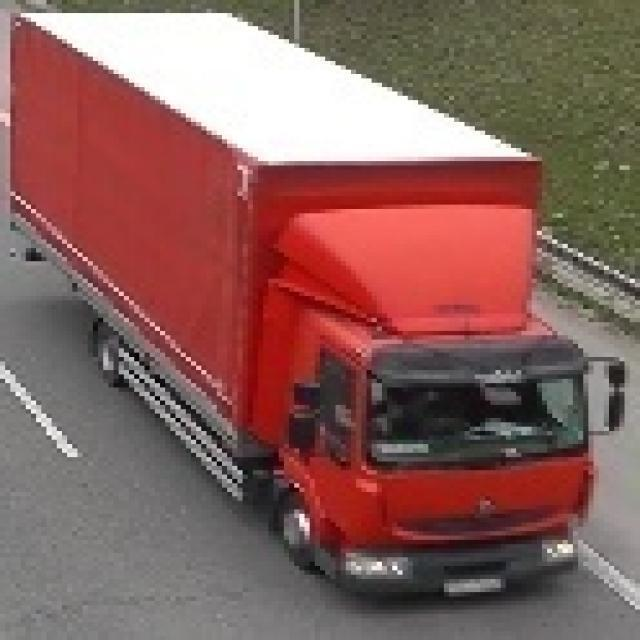truck: (224, 192, 640, 610)
